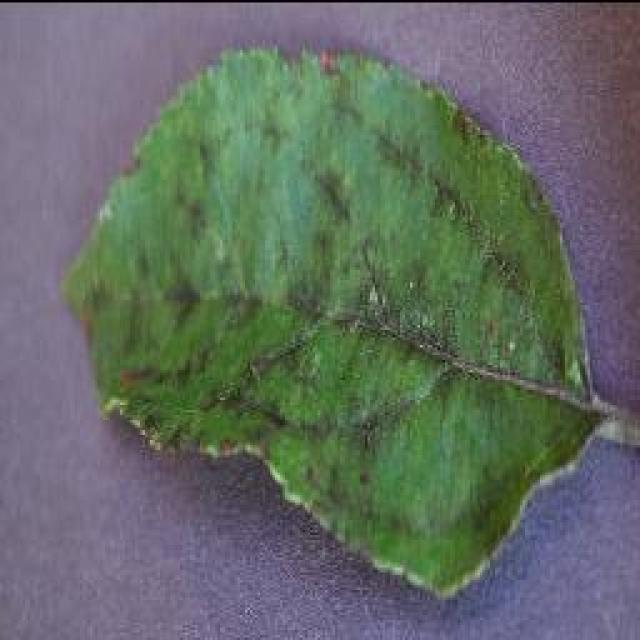apple scab disease: (60, 40, 610, 600)
